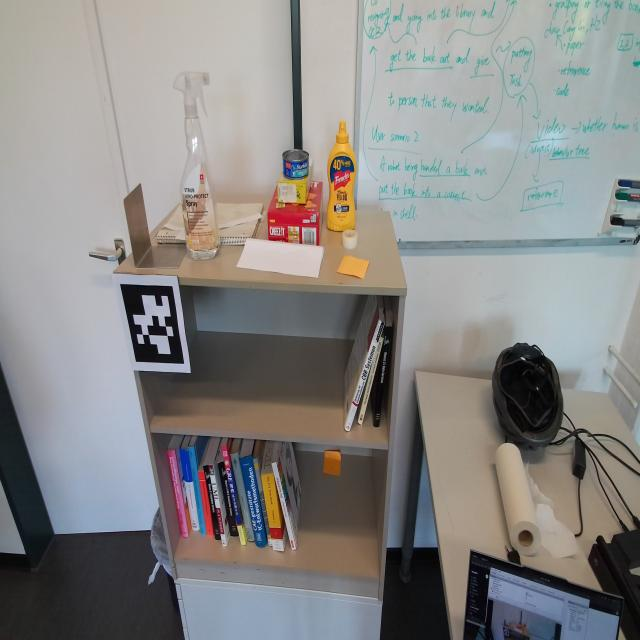Book Spine: (344, 320, 384, 432), (239, 455, 267, 547), (221, 446, 246, 545), (357, 337, 384, 426), (230, 450, 255, 541), (272, 462, 296, 550), (167, 449, 189, 537), (374, 327, 392, 428), (261, 473, 284, 551), (253, 458, 272, 546), (180, 448, 200, 531), (188, 446, 206, 535), (208, 464, 227, 546), (218, 462, 239, 536), (204, 465, 222, 540), (198, 472, 214, 535)
